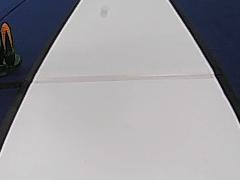corn: (0, 22, 25, 70)
